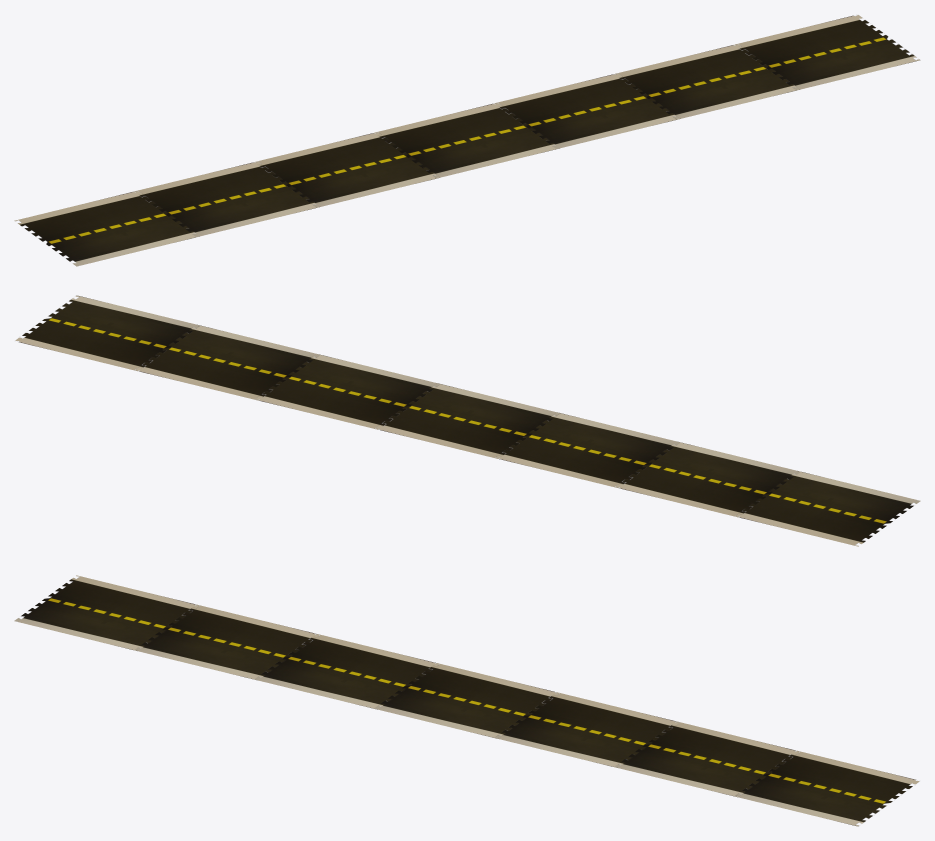
File: Modcon.glb
3 renders of one model, top to bottom at view 1: azimuth 30°, elevation 25°; view 2: azimuth 150°, elevation 25°; view 3: azimuth 330°, elevation 25°, orthographic.
Visible parts, largest first — view 1: Tile.001, Tile.003, Tile.005, Tile.007, Tile.006, Tile.004, Tile.002; view 2: Tile.005, Tile.003, Tile.004, Tile.001, Tile.006, Tile.002, Tile.007; view 3: Tile.002, Tile.007, Tile.006, Tile.005, Tile.003, Tile.001, Tile.004.
Boxes of the visible parts, x1,y1,x2,y2 form: Tile.001: (494,73,680,149); Tile.003: (734,15,920,89); Tile.005: (134,162,319,237); Tile.007: (374,103,559,177); Tile.006: (14,191,199,266); Tile.004: (254,132,440,207); Tile.002: (614,44,799,119); Tile.005: (615,441,800,517); Tile.003: (15,295,199,371); Tile.004: (495,412,680,487); Tile.001: (255,354,439,429); Tile.006: (735,471,920,546); Tile.002: (135,324,319,400); Tile.007: (375,383,558,458); Tile.002: (614,721,799,797); Tile.007: (374,663,559,738); Tile.006: (14,575,199,650); Tile.005: (134,604,319,680); Tile.003: (735,750,919,826); Tile.001: (495,692,679,767); Tile.004: (254,634,439,709).
Size of the model in its own units: 4.52 by 0 by 0.5839.
7 materials, 7 textured.
